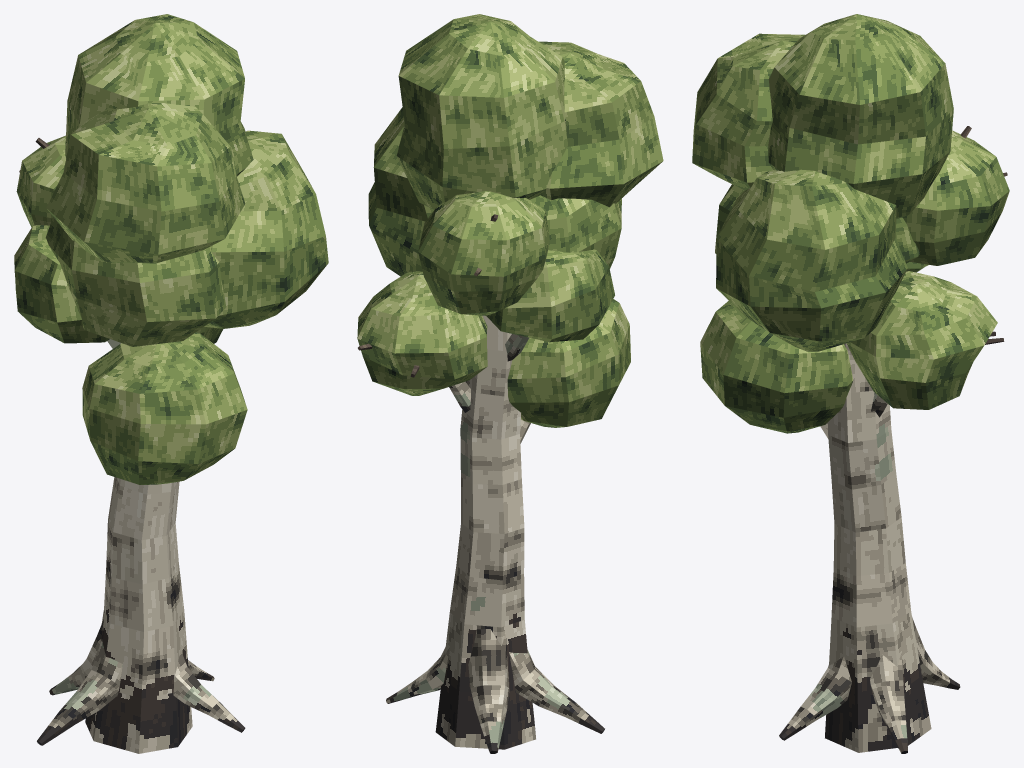
The model's file is birch.glb.
3 renders of one model, left to right at view 1: azimuth 30°, elevation 25°; view 2: azimuth 150°, elevation 25°; view 3: azimuth 270°, elevation 25°, orthographic. The views are drawn at different scales.
Visible parts, largest first — view 1: crown_29, trunk_1, crown_9, crown_30, crown_21, crown_31, crown_17, root_4, crown_25, root_3, root_5; view 2: crown_30, trunk_1, crown_29, crown_25, crown_13, crown_9, crown_17, crown_21, crown_31, root_5, root_4, root_2; view 3: crown_30, crown_21, trunk_1, crown_13, crown_9, crown_29, crown_25, root_2, root_3, crown_31, root_5.
Boxes of the visible parts, box(x1,y1,x2,y2) form: crown_29: box(46, 103, 245, 263); trunk_1: box(85, 477, 192, 753); crown_9: box(82, 332, 247, 484); crown_30: box(65, 14, 253, 176); crown_21: box(204, 130, 328, 328); crown_31: box(45, 217, 226, 346); crown_17: box(14, 225, 109, 343); root_4: box(37, 639, 122, 745); crown_25: box(16, 135, 65, 227); root_3: box(173, 650, 245, 732); root_5: box(49, 619, 103, 695); crown_30: box(396, 14, 567, 209); trunk_1: box(435, 315, 535, 749); crown_29: box(539, 41, 663, 207); crown_25: box(418, 191, 549, 315); crown_13: box(357, 271, 487, 395); crown_9: box(507, 299, 630, 427); crown_17: box(486, 249, 614, 342); crown_21: box(368, 107, 433, 276); crown_31: box(530, 195, 621, 268); root_5: box(468, 629, 509, 753); root_4: box(509, 649, 604, 733); root_2: box(386, 647, 449, 703); crown_30: box(768, 14, 953, 218); crown_21: box(716, 169, 907, 351); trunk_1: box(825, 343, 931, 752); crown_13: box(847, 271, 997, 409); crown_9: box(700, 301, 853, 433); crown_29: box(692, 33, 804, 190); crown_25: box(902, 130, 1009, 265); root_2: box(870, 653, 907, 753); root_3: box(779, 656, 851, 740); crown_31: box(715, 184, 919, 263); root_5: box(912, 617, 960, 689).
Bounding box in the file's own units: 30.85 × 79.38 × 31.72.
Materials: 1 (1 with a texture image).
